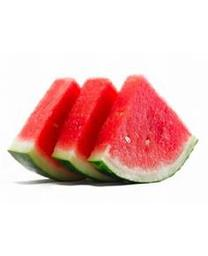watermelon: (9, 75, 197, 185)
